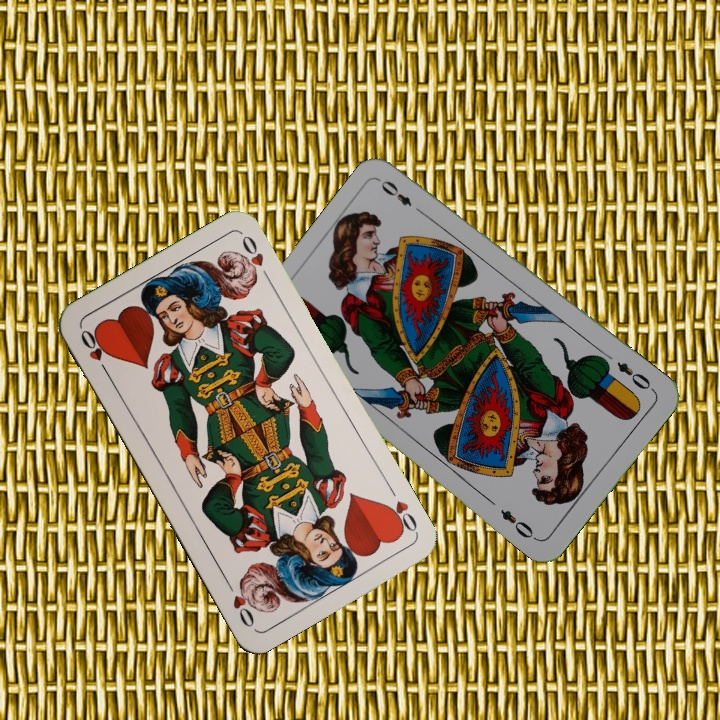EO: (612, 357, 657, 394)
HO: (381, 482, 420, 537), (76, 325, 112, 379)
